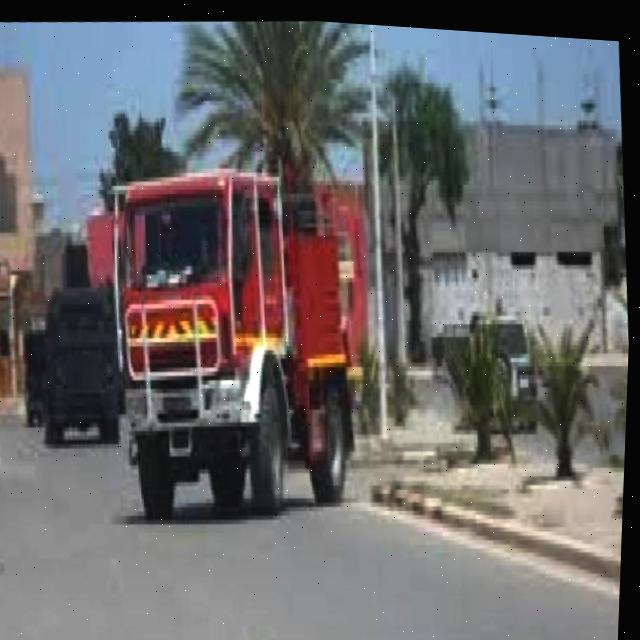emergency: (94, 133, 373, 536)
